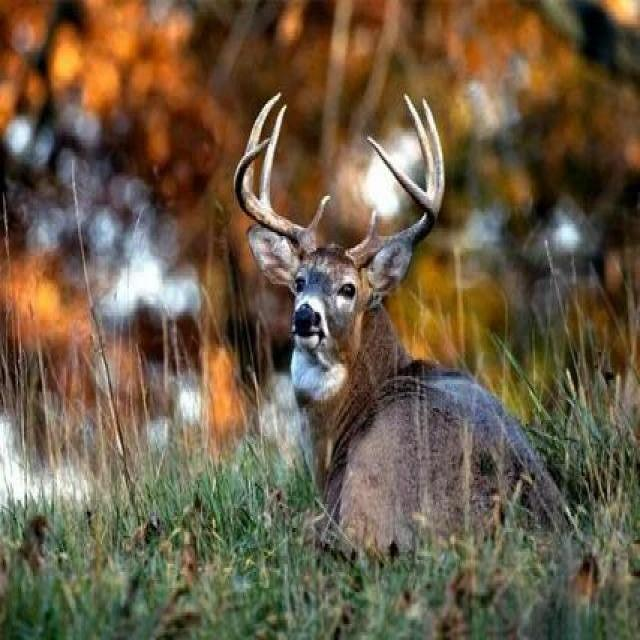deer: (218, 57, 542, 546)
